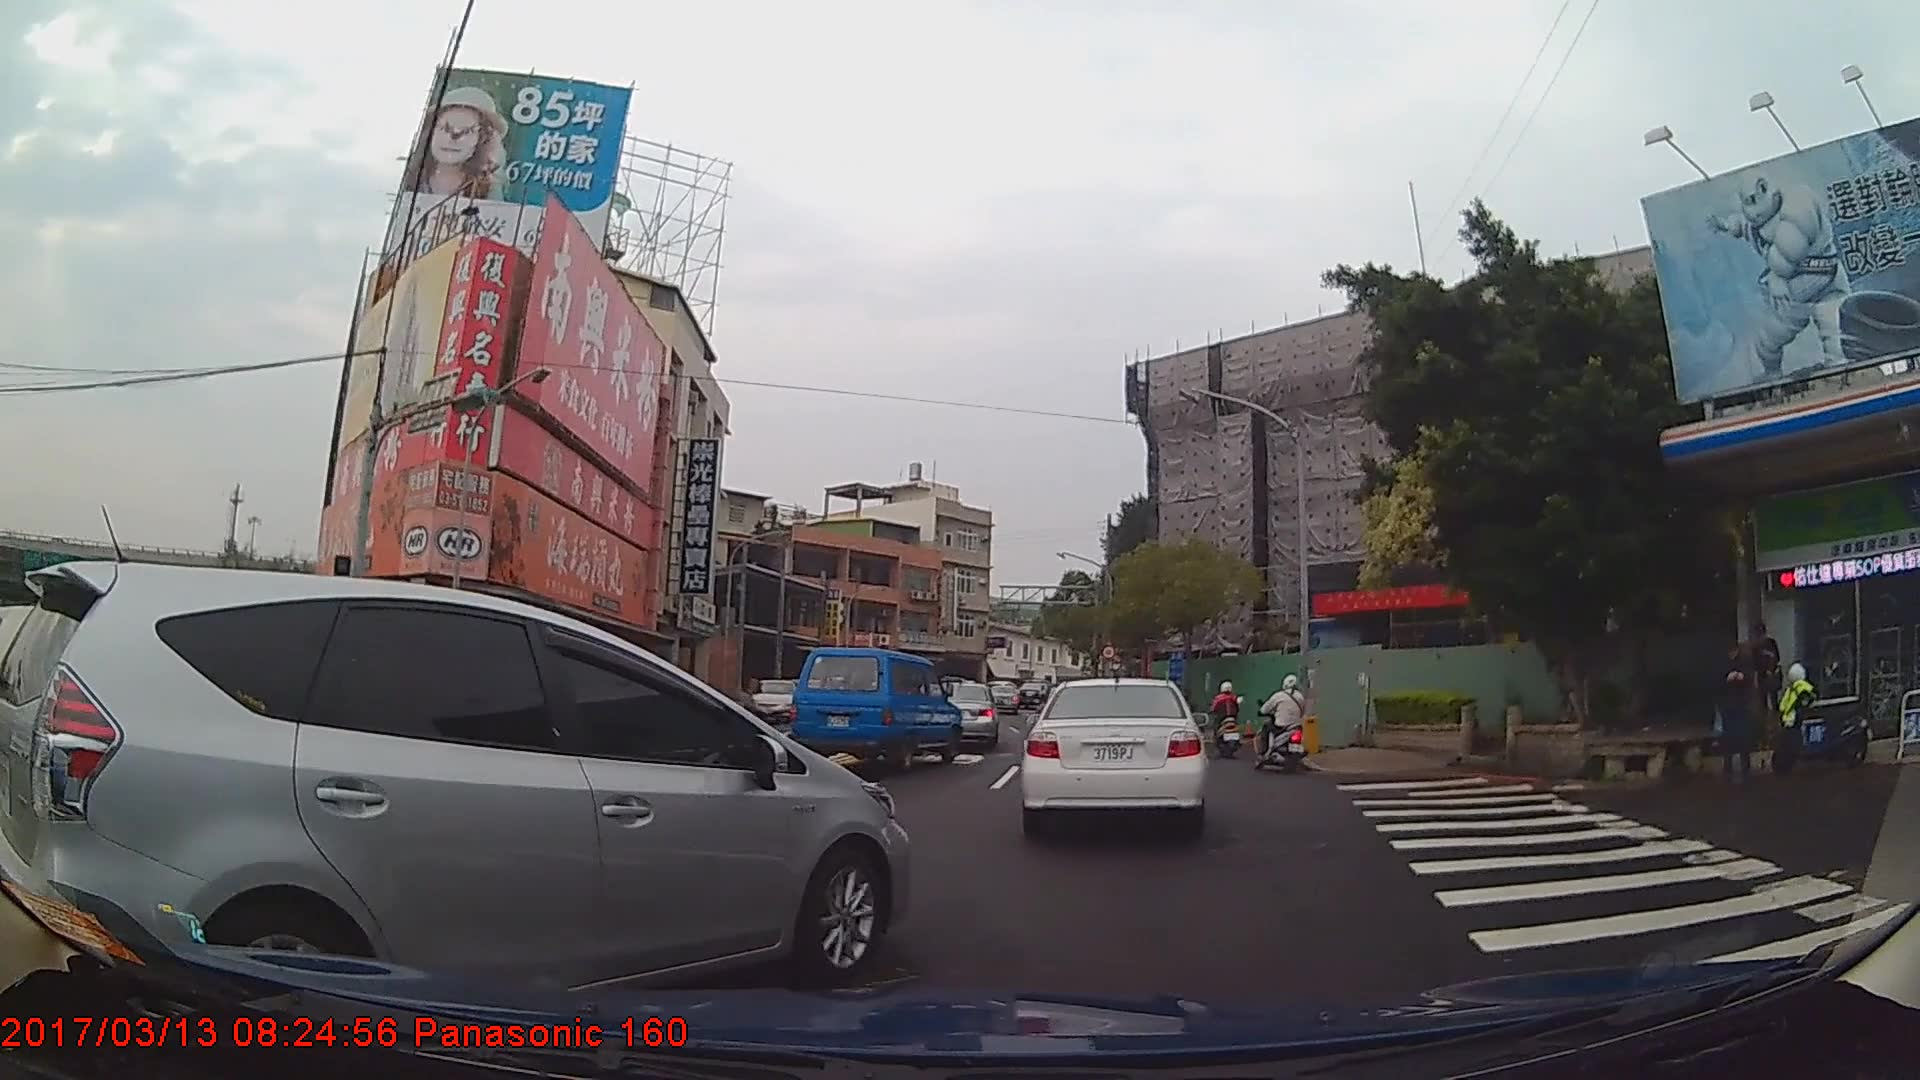pedestrian: (1713, 640, 1758, 781), (1746, 620, 1784, 733)
rider: (1258, 670, 1312, 770), (1211, 679, 1246, 757)
vehicle: (2, 560, 911, 1024), (1021, 673, 1212, 836), (787, 644, 961, 768), (930, 679, 1002, 748), (744, 676, 804, 723)
